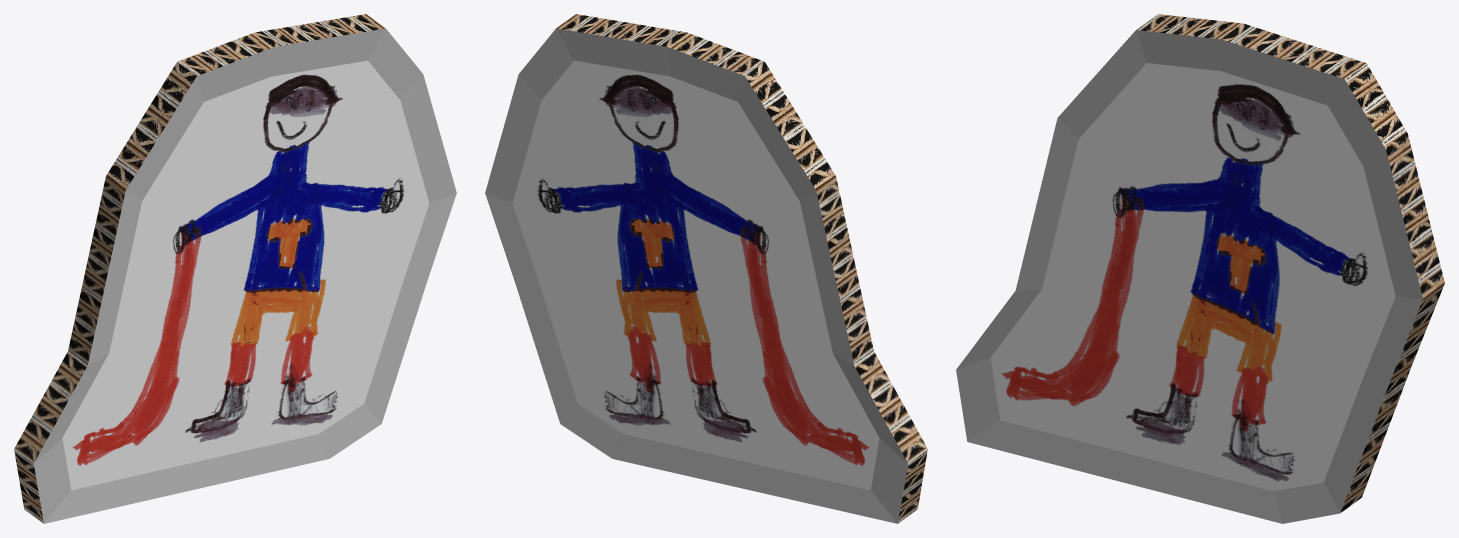
Rendered from KiekkoilijaSininen.fbx.
3 views of the same model, side by side, from view 1: azimuth 30°, elevation 25°; view 2: azimuth 150°, elevation 25°; view 3: azimuth 330°, elevation 25° (orthographic). The views are drawn at different scales.
Visible parts, largest first — view 1: KiekkoilijaSininen; view 2: KiekkoilijaSininen; view 3: KiekkoilijaSininen.
Boxes of the visible parts, left/top/right/bottom form: KiekkoilijaSininen: left=14, top=14, right=456, bottom=523; KiekkoilijaSininen: left=485, top=14, right=927, bottom=523; KiekkoilijaSininen: left=956, top=14, right=1444, bottom=523.
Bounding box in the file's own units: 225 × 216 × 18.16.
